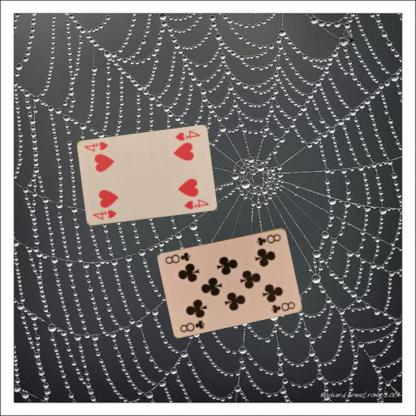4h: (90, 208, 118, 222), (173, 128, 200, 142)
8c: (177, 318, 206, 334), (254, 231, 282, 247)
